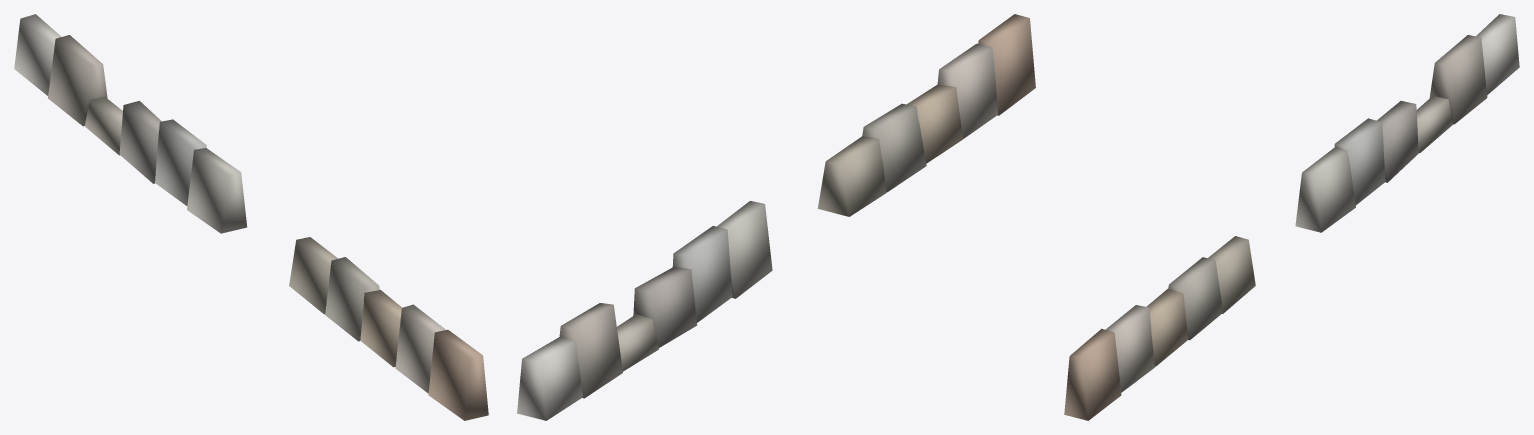
File: farm_6_25_far.glb
The picture shows the model from 3 angles, left to right: view 1: azimuth 30°, elevation 25°; view 2: azimuth 150°, elevation 25°; view 3: azimuth 330°, elevation 25°; orthographic projection. The views are drawn at different scales.
Visible parts, largest first — view 1: geometry_0; view 2: geometry_0; view 3: geometry_0.
Part boxes in pixels (bbox=[...]): geometry_0: bbox=[14, 14, 488, 420]; geometry_0: bbox=[517, 14, 1035, 420]; geometry_0: bbox=[1064, 14, 1519, 420].
Size of the model in its own units: 0.865 by 2.12 by 19.91.
